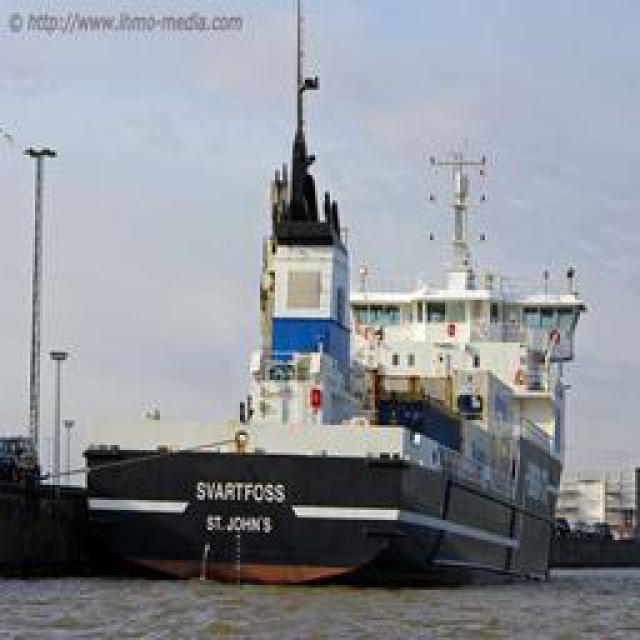Ship: (82, 99, 575, 601)
